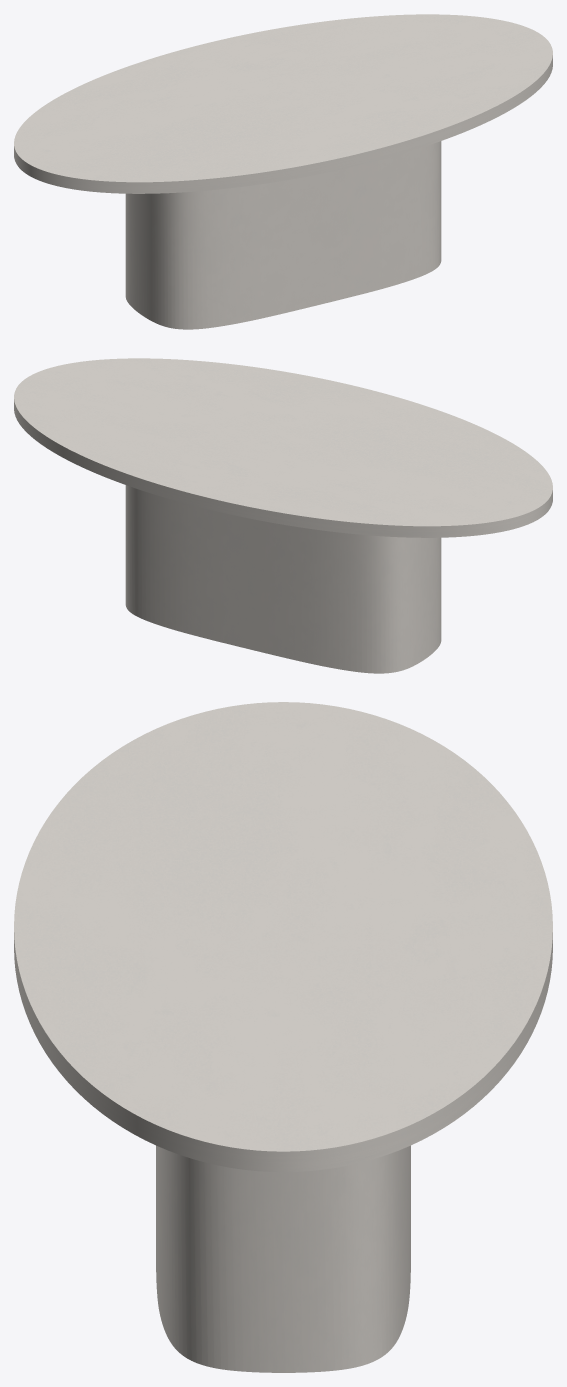
File: pearlwhite_ellips_standard_fixed.glb
3 views of the same model, one above another, from view 1: azimuth 30°, elevation 25°; view 2: azimuth 150°, elevation 25°; view 3: azimuth 270°, elevation 25° (orthographic). The views are drawn at different scales.
Parts seen in each view (by area): view 1: standard_ellips, fixed; view 2: standard_ellips, fixed; view 3: standard_ellips, fixed.
Boxes of the visible parts, x1,y1,x2,y2 form: standard_ellips: (14, 14, 552, 193); fixed: (125, 141, 441, 329); standard_ellips: (14, 358, 552, 537); fixed: (125, 485, 441, 673); standard_ellips: (14, 702, 552, 1172); fixed: (156, 1145, 410, 1372).
Bounding box in the file's own units: 7.5 × 2.5 × 3.8.
1 material, 1 textured.
